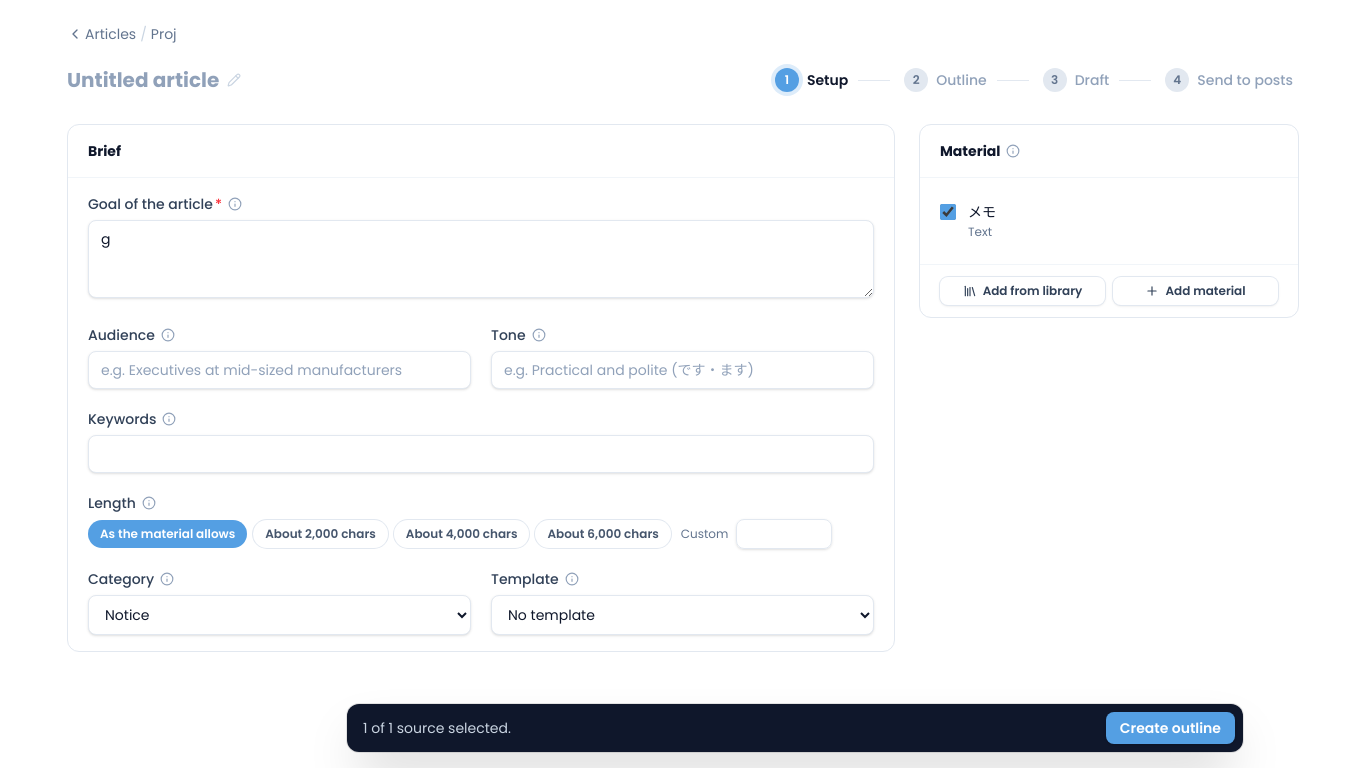
Test: PieceWorkspace › keeps the reason a run could not start next to the button
The image size is (1366, 768).
Check: the checkbox labelled "メモ Text" is shown, box [940,204,956,220]
Click the button "Create outline": (1170, 728) [1106,712,1235,744]
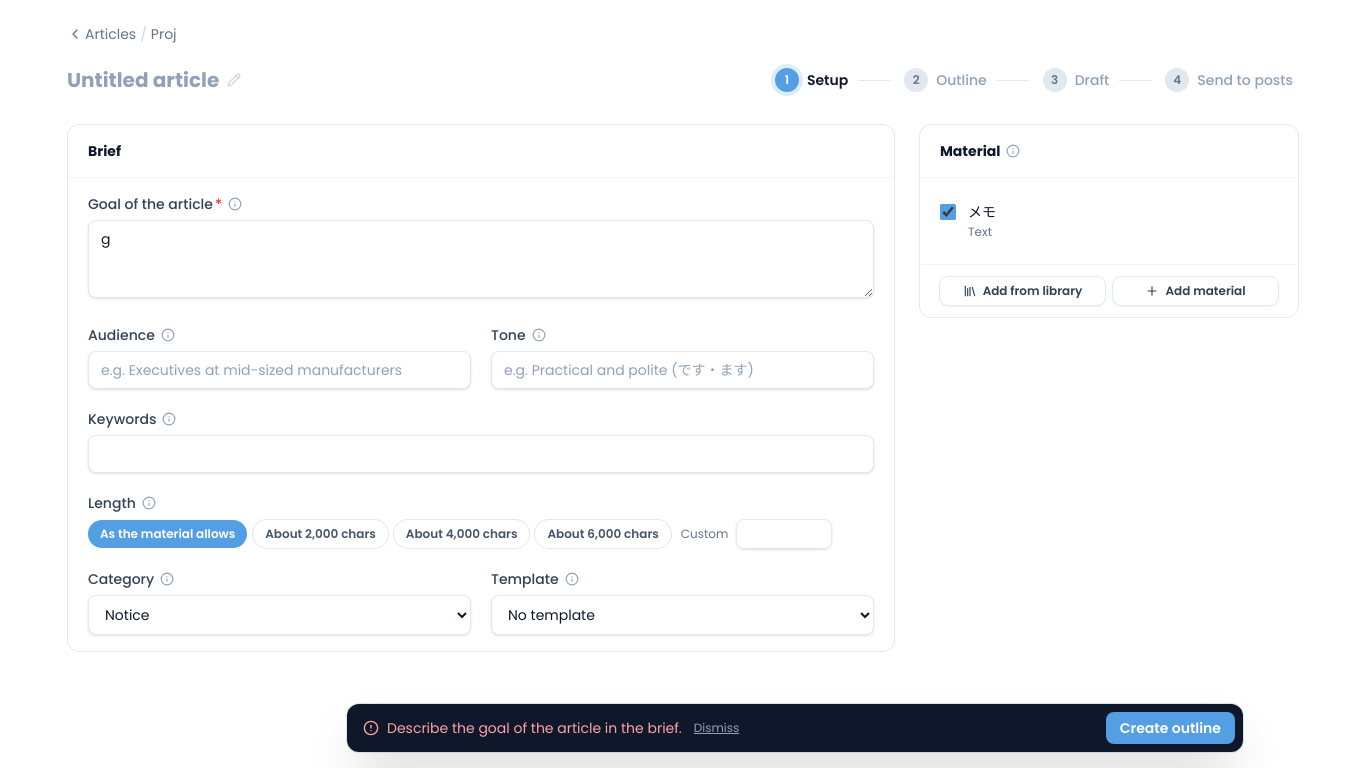
Check: the message shows "Describe the goal of the article in the brief.", box [387,718,682,738]
